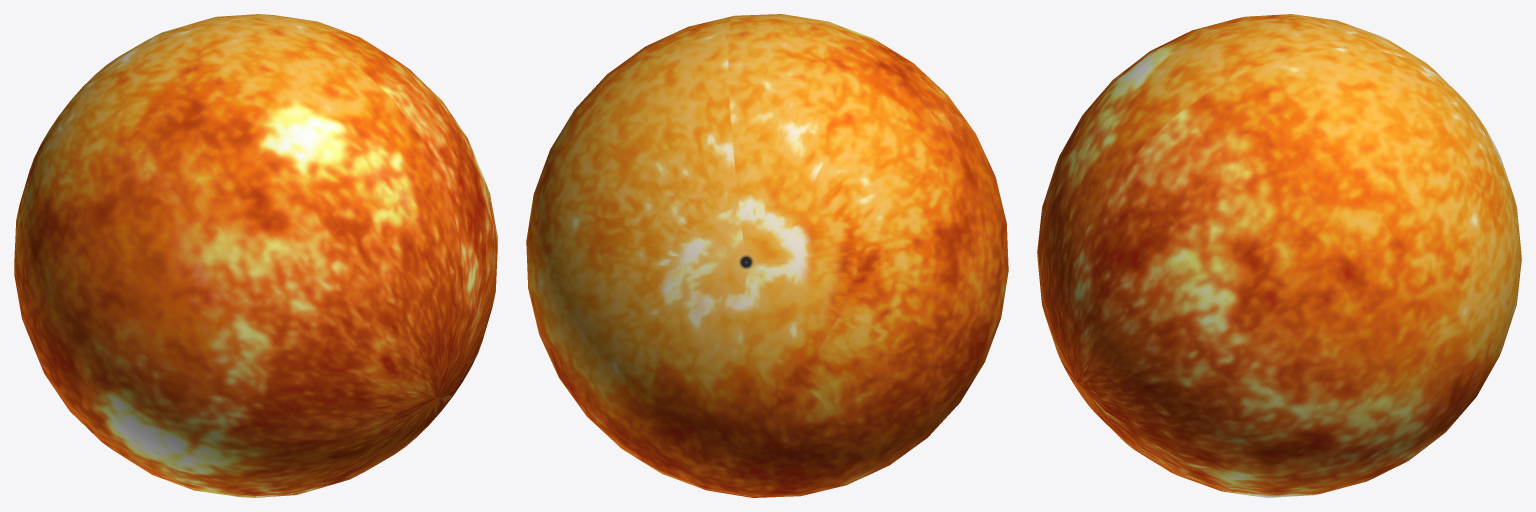
Rendered from Sun.fbx.
3 views of the same model, side by side, from view 1: azimuth 30°, elevation 25°; view 2: azimuth 150°, elevation 25°; view 3: azimuth 270°, elevation 25° (orthographic).
Parts seen in each view (by area): view 1: Sphere; view 2: Sphere; view 3: Sphere.
Boxes of the visible parts, <box> form: Sphere: <box>14,14,497,497</box>; Sphere: <box>526,14,1008,497</box>; Sphere: <box>1037,14,1521,497</box>.
Bounding box in the file's own units: 200 × 200 × 200.
